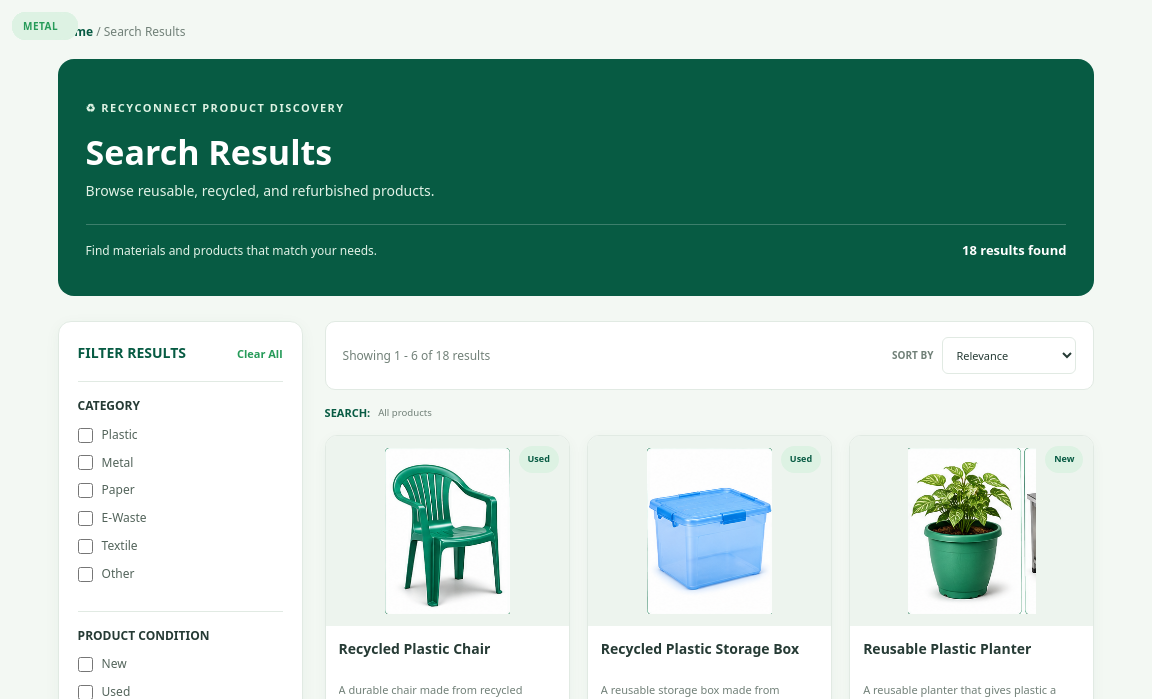
Test: SearchResults Component › allows selecting Plastic category
The image size is (1152, 699).
Click the checkbox labelled "Plastic".
click(85, 435)  # box [78,428,93,443]
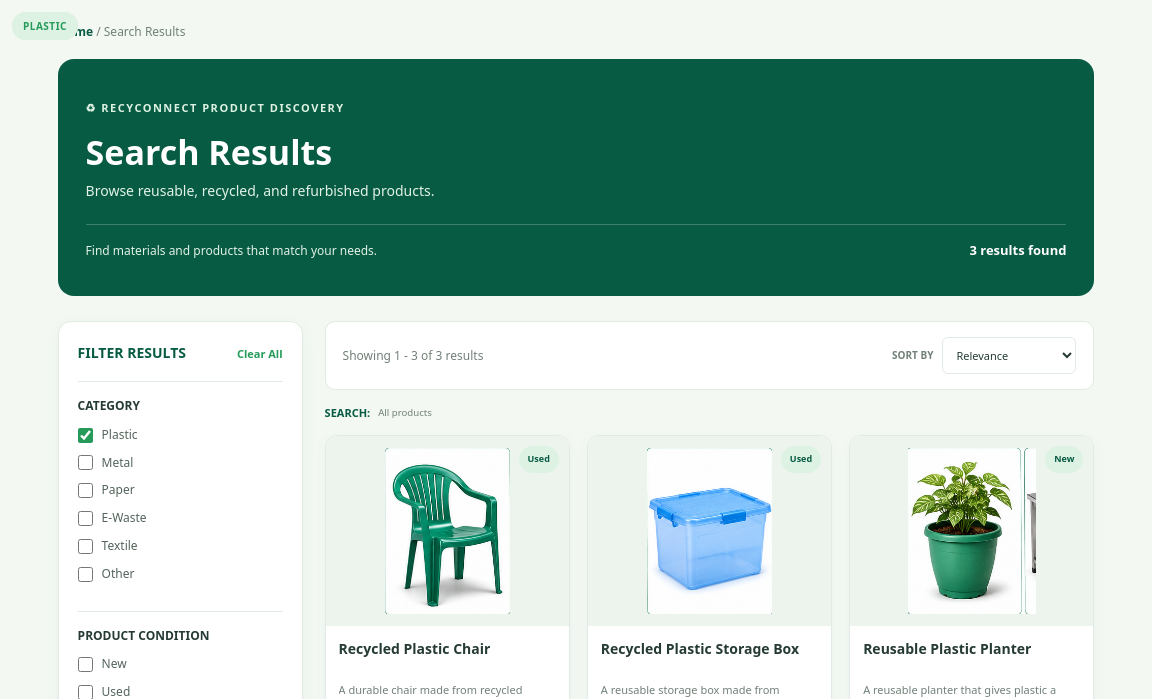
Check: the checkbox labelled "Plastic" is checked, box [78,428,93,443]
